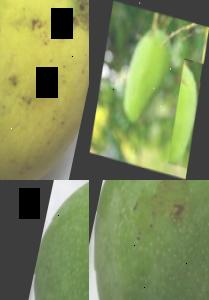Ripe: (0, 0, 89, 180)
Unripe: (89, 180, 209, 300), (0, 180, 89, 300), (168, 57, 204, 168)
